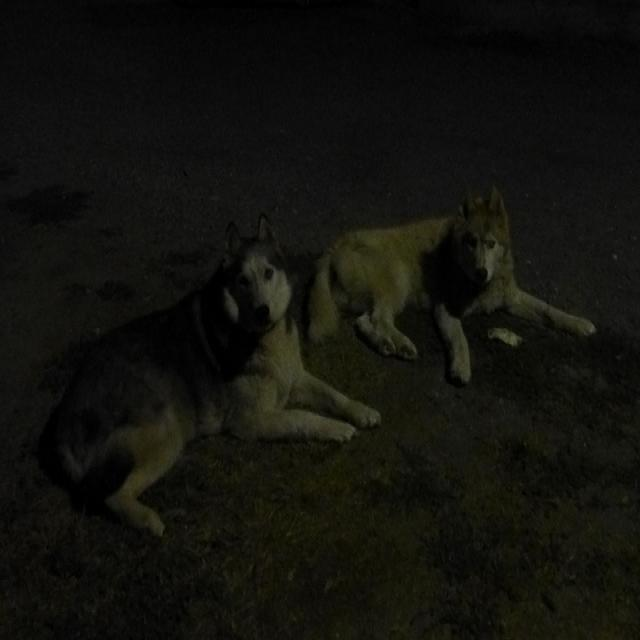Dog: (51, 288, 356, 544), (358, 170, 574, 405), (181, 238, 397, 421)
